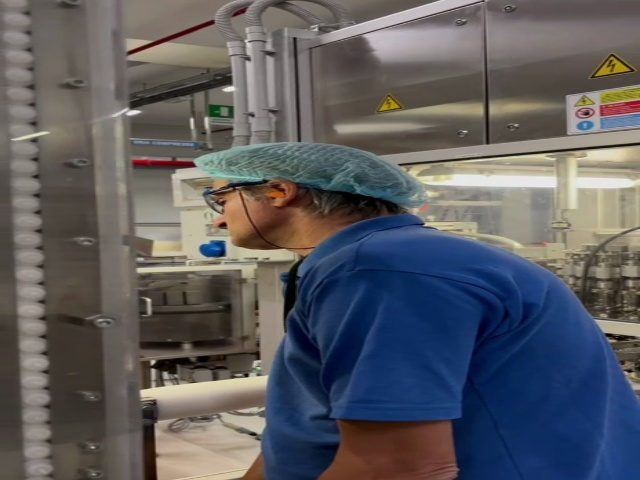Earplug: (265, 180, 299, 208)
Hairnet: (194, 142, 425, 200)
No_Helmet: (201, 144, 417, 196)
No_Vest: (269, 224, 626, 480)
Person: (194, 144, 640, 480)
Safety_Goggles: (199, 180, 271, 214)
